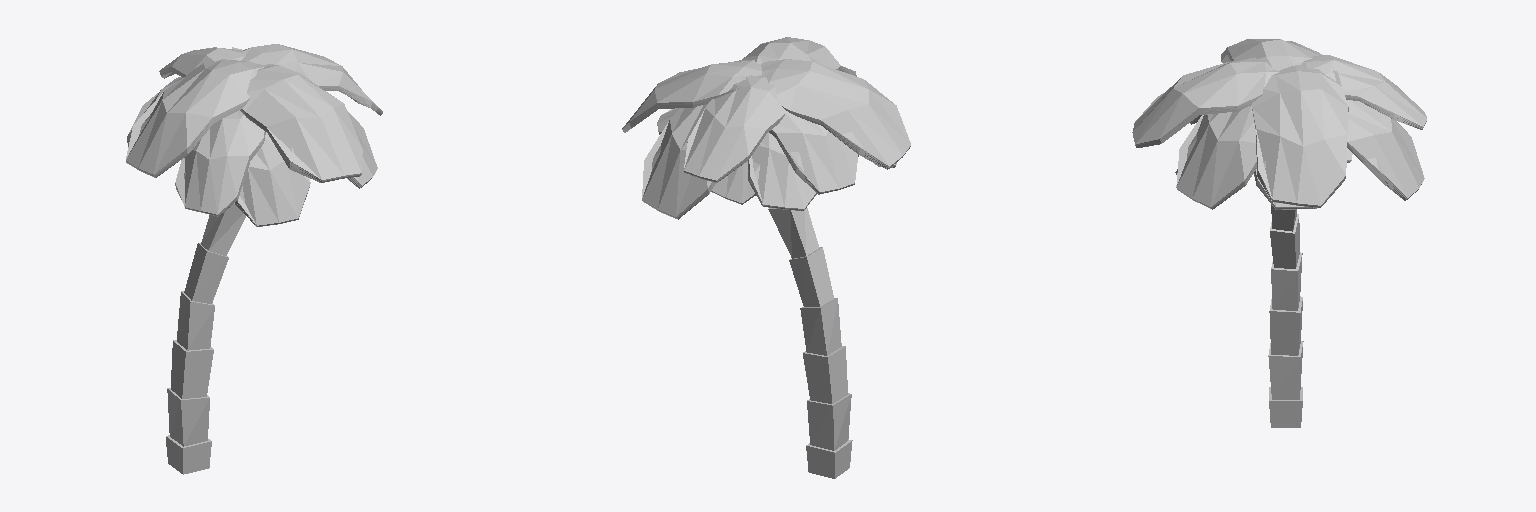
Rendered from Palm2.obj.
3 views of the same model, side by side, from view 1: azimuth 30°, elevation 25°; view 2: azimuth 150°, elevation 25°; view 3: azimuth 270°, elevation 25° (orthographic).
Bounding box in the file's own units: 14.43 × 21.4 × 14.56.